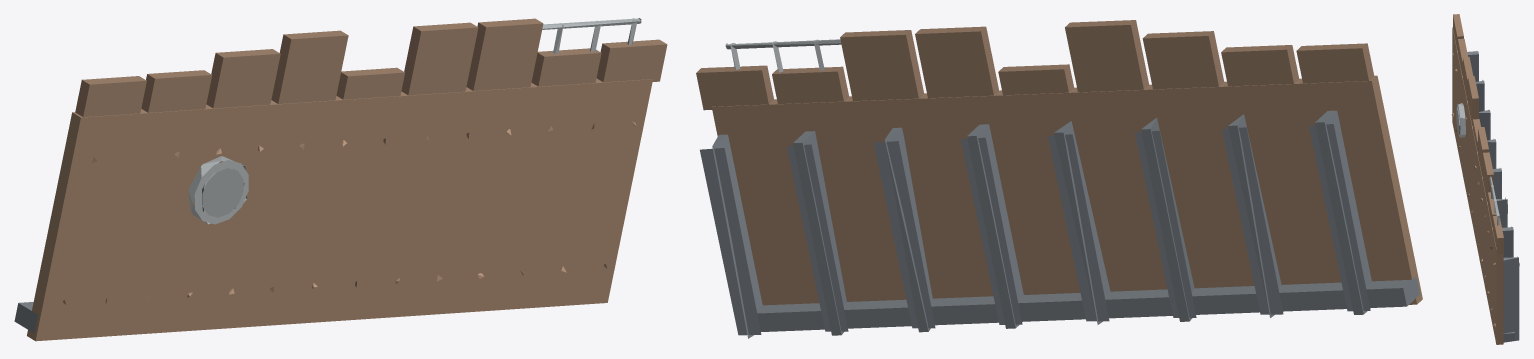
The picture shows the model from 3 angles, left to right: view 1: azimuth 30°, elevation 25°; view 2: azimuth 150°, elevation 25°; view 3: azimuth 270°, elevation 25°; orthographic projection. The views are drawn at different scales.
Visible parts, largest first — view 1: sea_wreck_hull.001; view 2: sea_wreck_hull.001; view 3: sea_wreck_hull.001.
Boxes of the visible parts, left/top/right/bottom form: sea_wreck_hull.001: left=14, top=18, right=667, bottom=341; sea_wreck_hull.001: left=696, top=20, right=1422, bottom=338; sea_wreck_hull.001: left=1451, top=14, right=1519, bottom=344.
Size of the model in its own units: 11.75 by 6.4 by 2.04.
